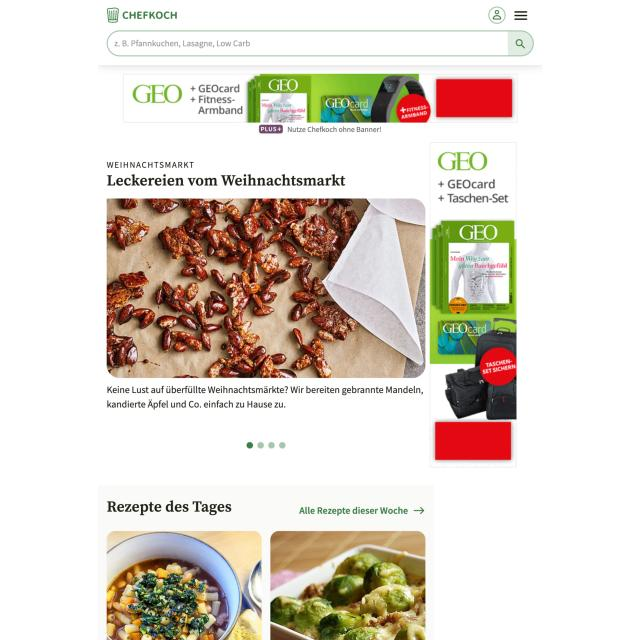input: (106, 30, 534, 59)
logo: (105, 4, 180, 27)
navigation: (511, 4, 532, 27)
